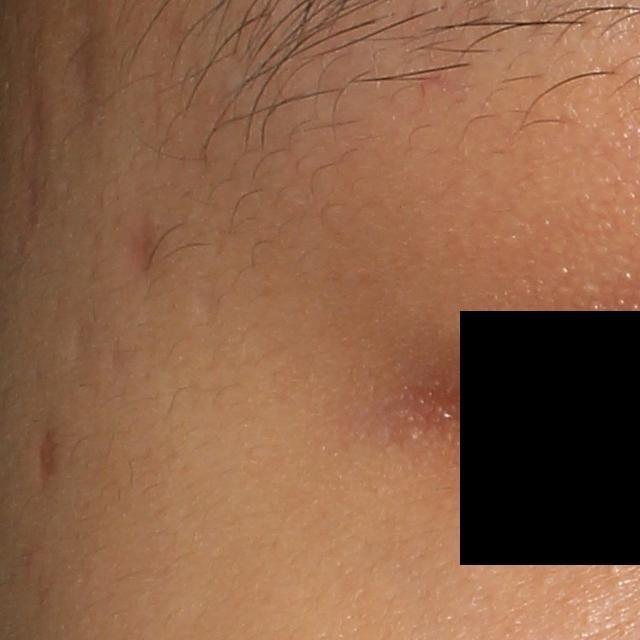atrophic_scar: (23, 89, 47, 219), (118, 200, 154, 264), (37, 422, 57, 494)
